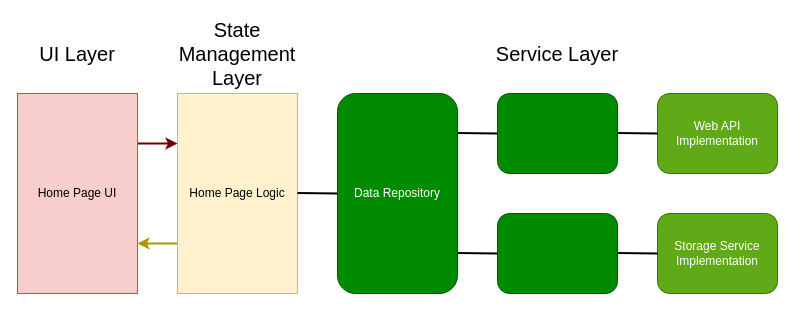
Some shapes in this 795 by 311 pixel diagram are drawn without their labels. The centre of each missing label's shape, as x and y in pixels:
"Storage Service Interface" goes at [557,253].
"Web API Interface" goes at [557,133].
